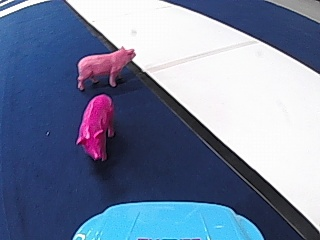pig: (75, 91, 113, 161), (74, 45, 134, 88)
